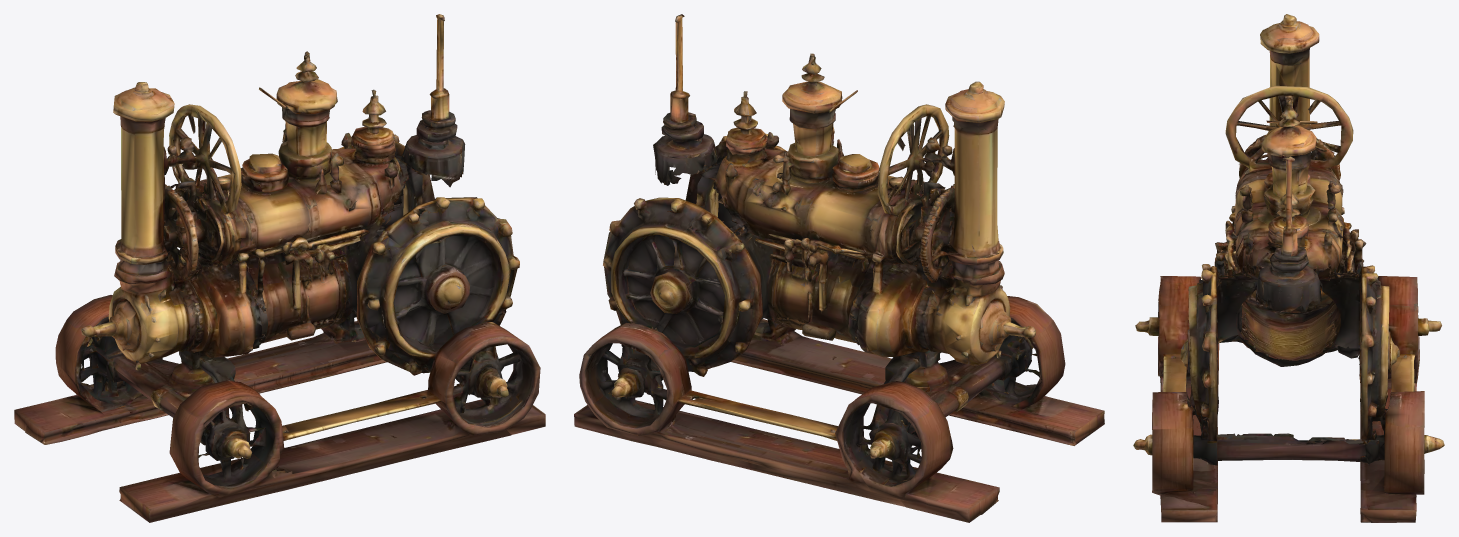
3 views of the same model, side by side, from view 1: azimuth 30°, elevation 25°; view 2: azimuth 150°, elevation 25°; view 3: azimuth 270°, elevation 25° (orthographic). The views are drawn at different scales.
Parts seen in each view (by area): view 1: Mesh_0; view 2: Mesh_0; view 3: Mesh_0.
Boxes of the visible parts, x1=… form: Mesh_0: x1=14, y1=14, x2=545, y2=522; Mesh_0: x1=574, y1=14, x2=1104, y2=522; Mesh_0: x1=1133, y1=14, x2=1444, y2=522.
Bounding box in the file's own units: 1.99 × 1.81 × 1.44.
Materials: 1 (1 with a texture image).
